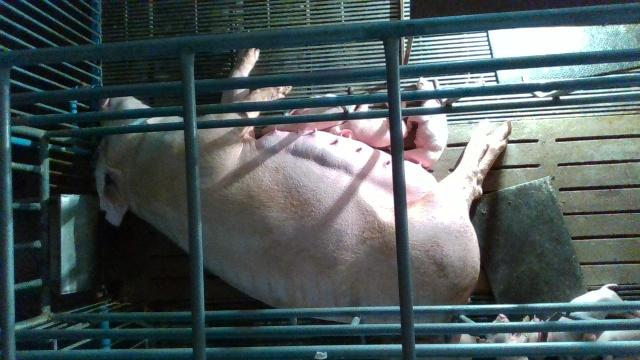piglet: (547, 283, 640, 342), (404, 77, 448, 168), (327, 103, 407, 148)
sow-sleep-lactate: (95, 48, 511, 323)
